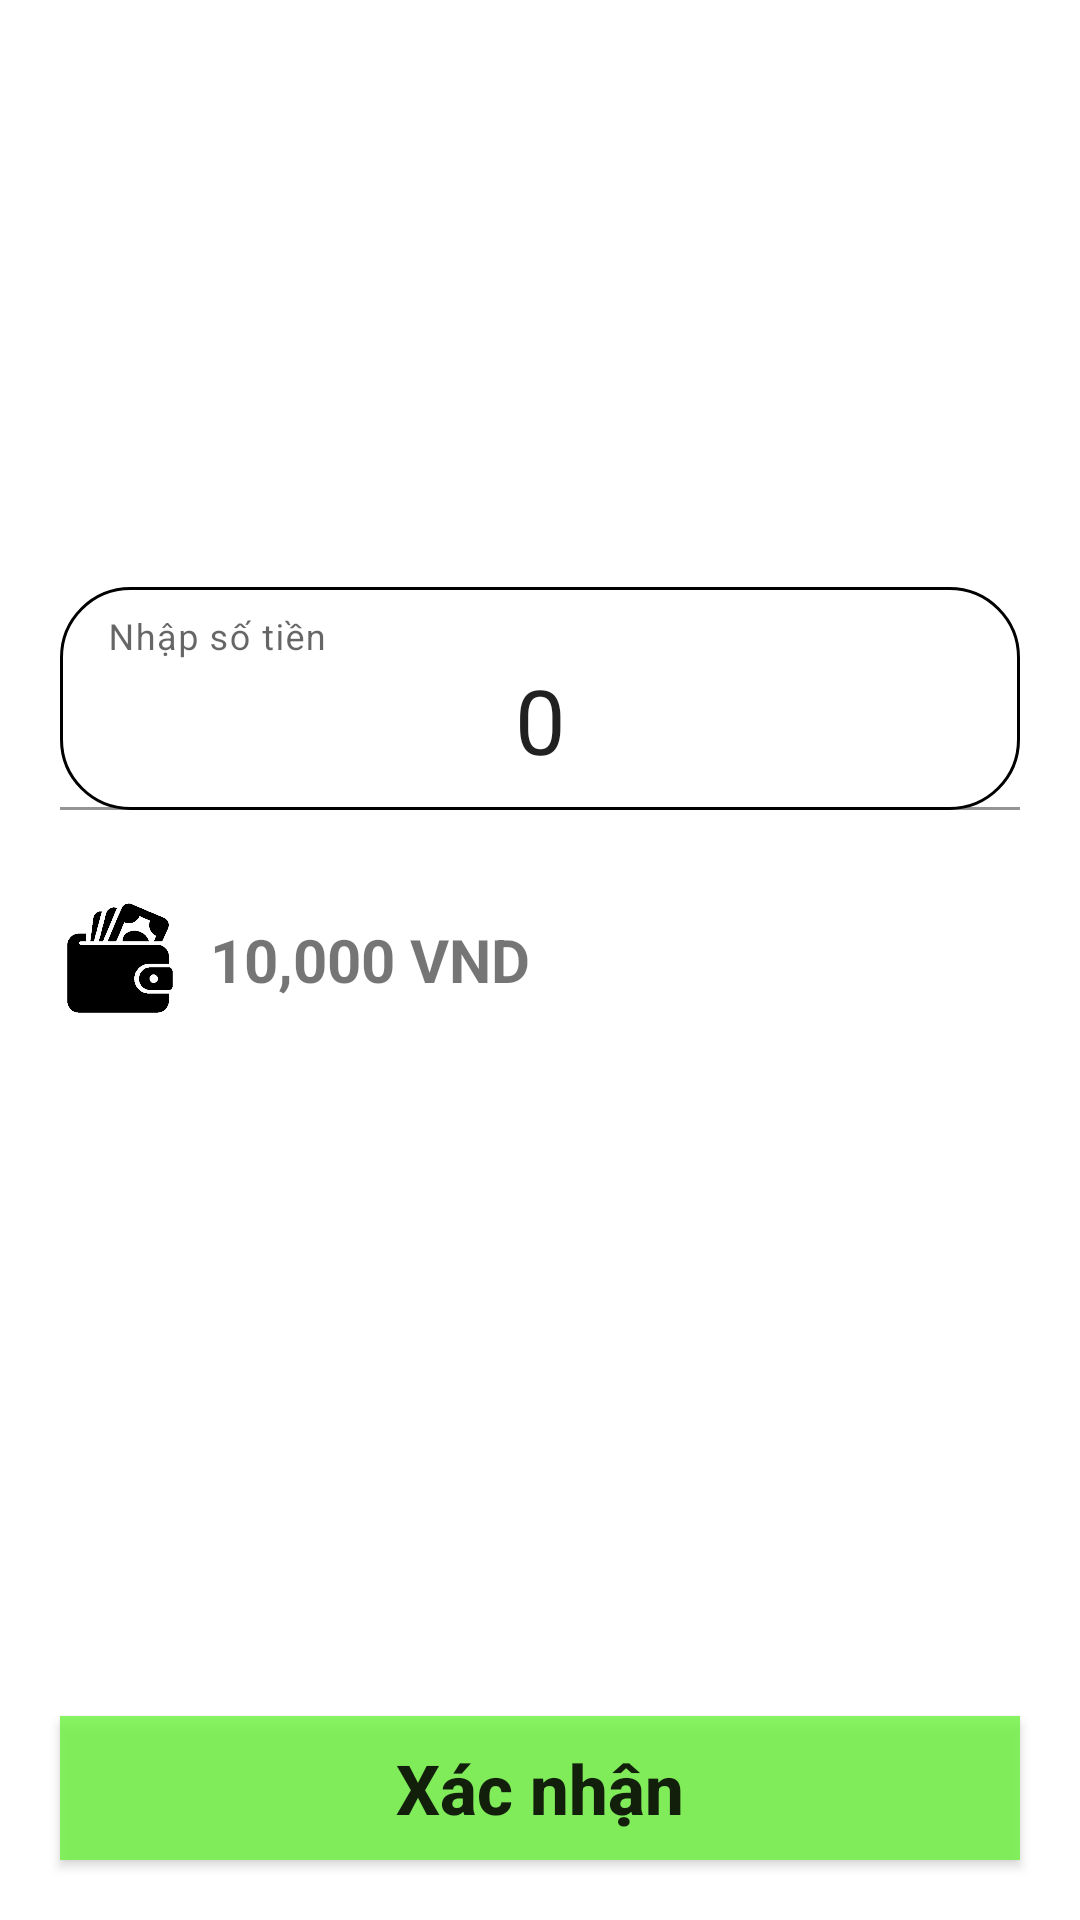

Icons on this 1080 × 1920 Android screen, each with the point to tap as point (x, y):
cash: point (120, 958)
